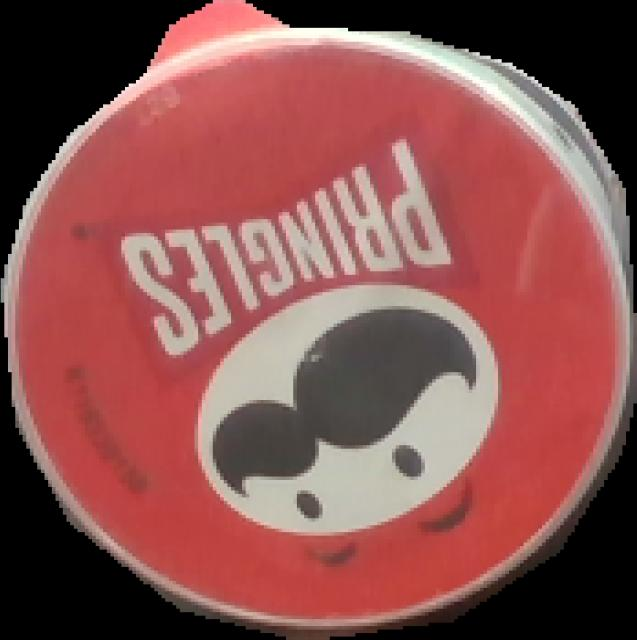head: (1, 0, 637, 640)
